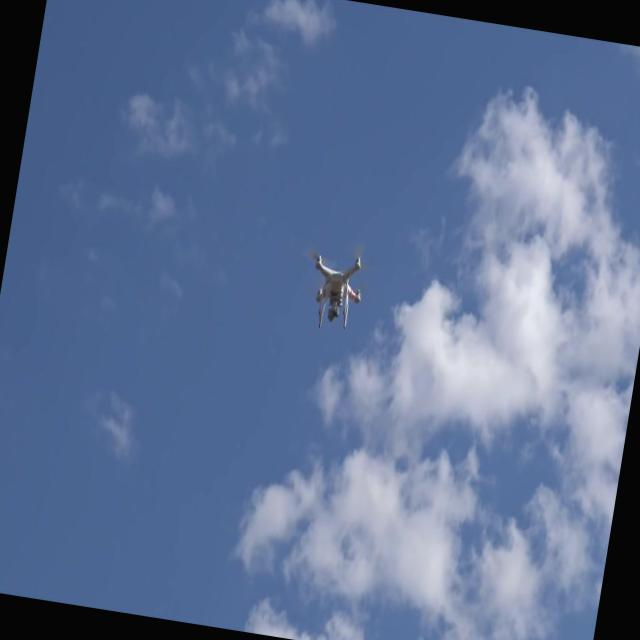drone: (304, 244, 369, 340)
